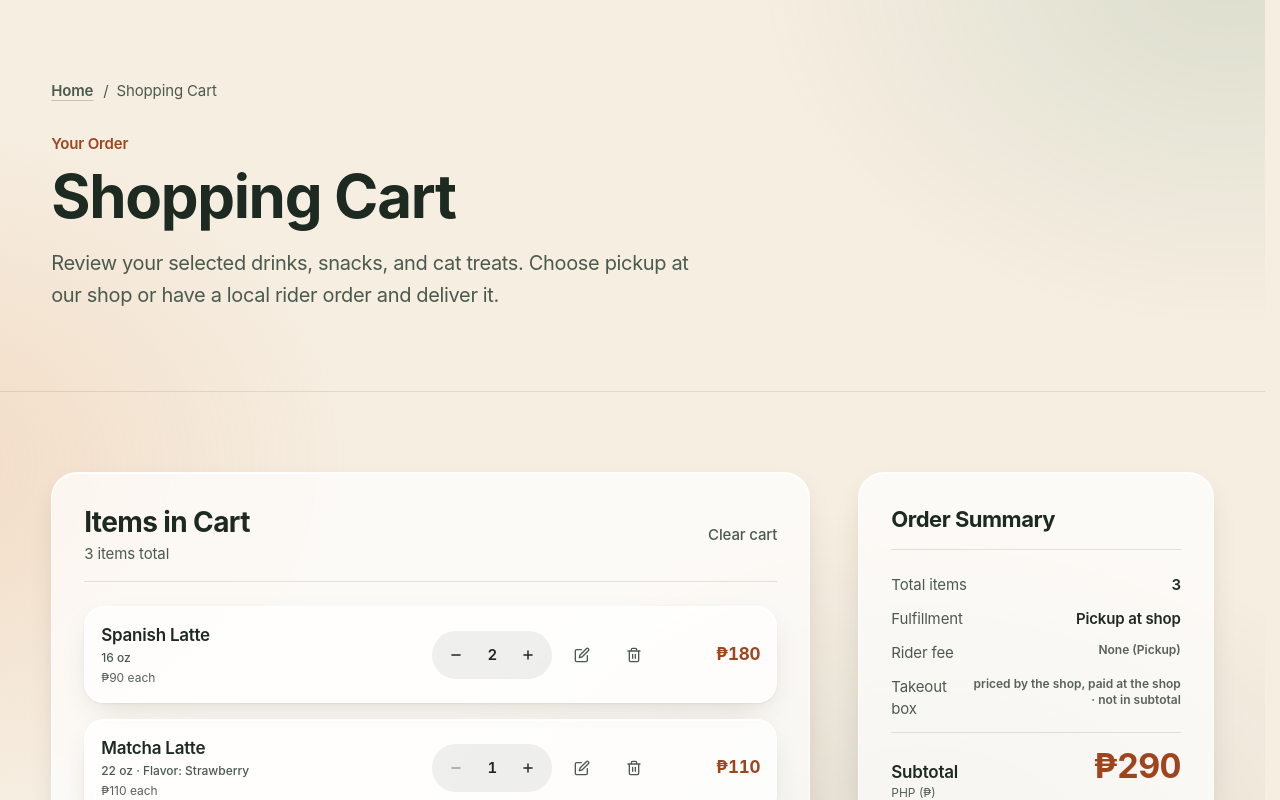
CartPageView Component › clears cart lines from cart page
expect the heading "Spanish Latte" is shown: met, box top-left (101, 623), bottom-right (210, 648)
What coordinates should you click on to do the following:
click the button "Clear cart"
I would click on:
 (743, 535)
Its box is top-left (700, 513), bottom-right (785, 557).
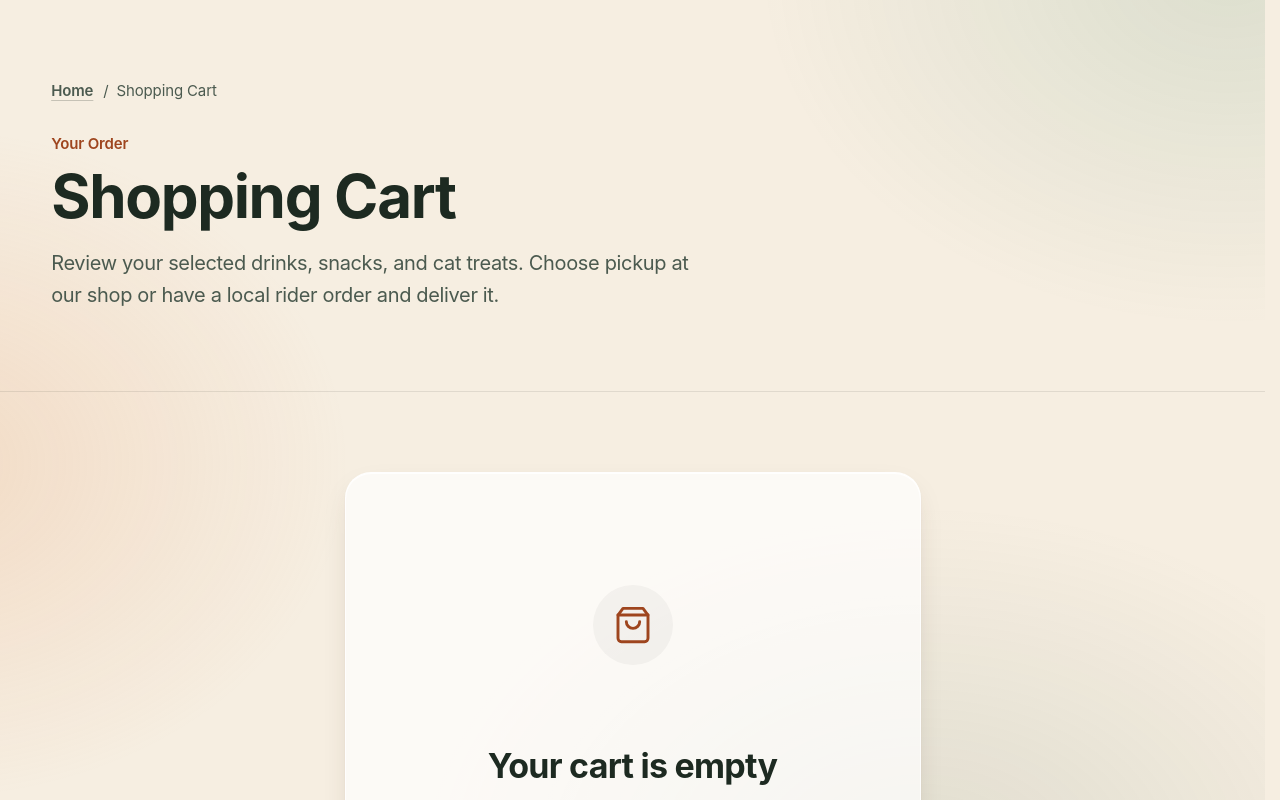
expect the heading "Your cart is empty" is shown: met, box top-left (488, 745), bottom-right (777, 786)
